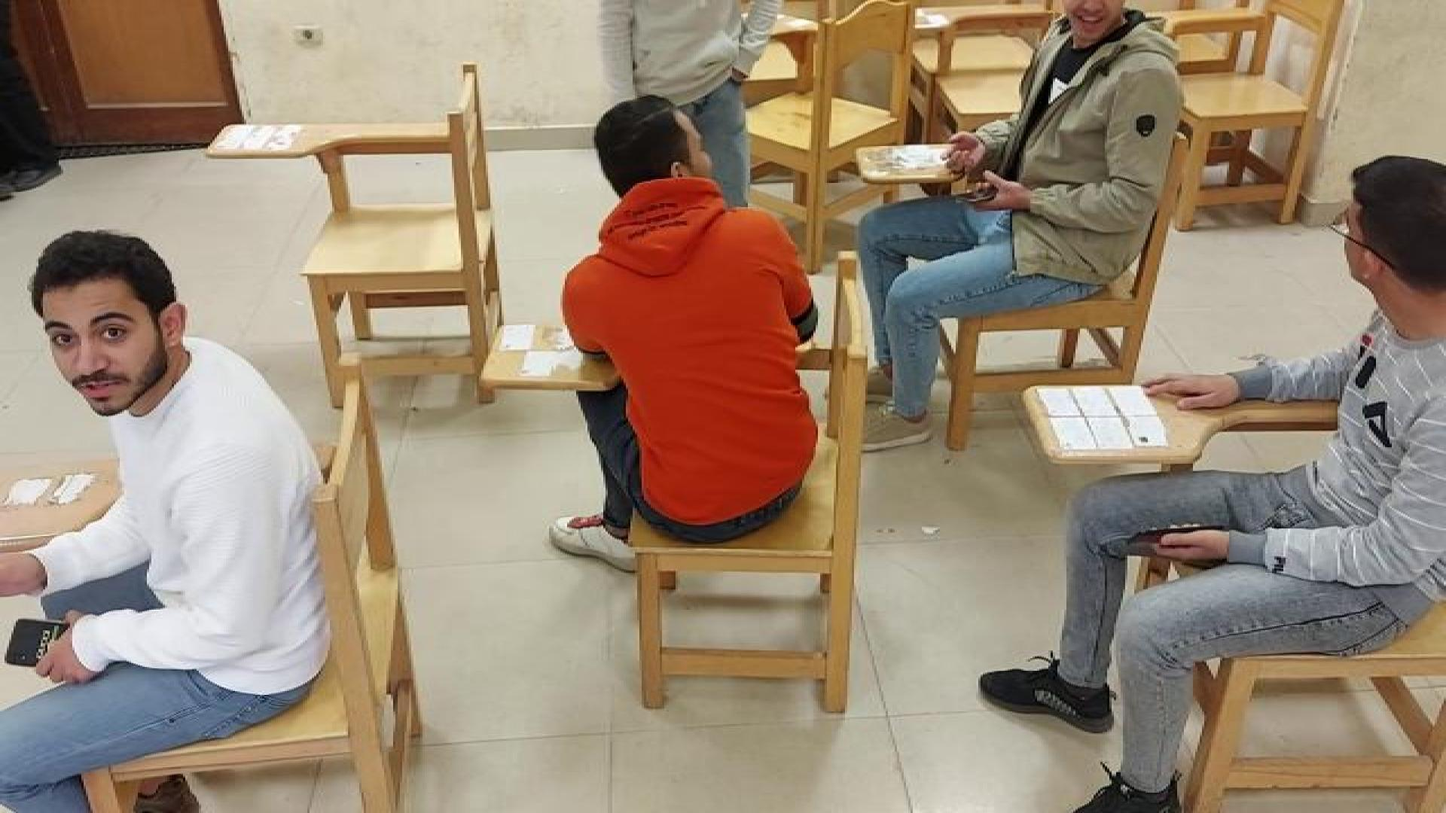phone: (7, 610, 77, 672), (1126, 518, 1235, 553), (951, 181, 1010, 211)
